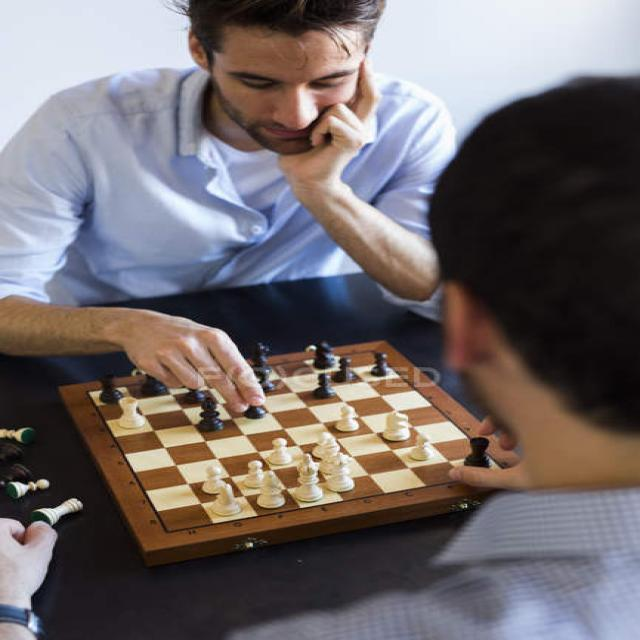chess-table-corners: (157, 524, 182, 538), (82, 386, 96, 396), (363, 347, 376, 355)
